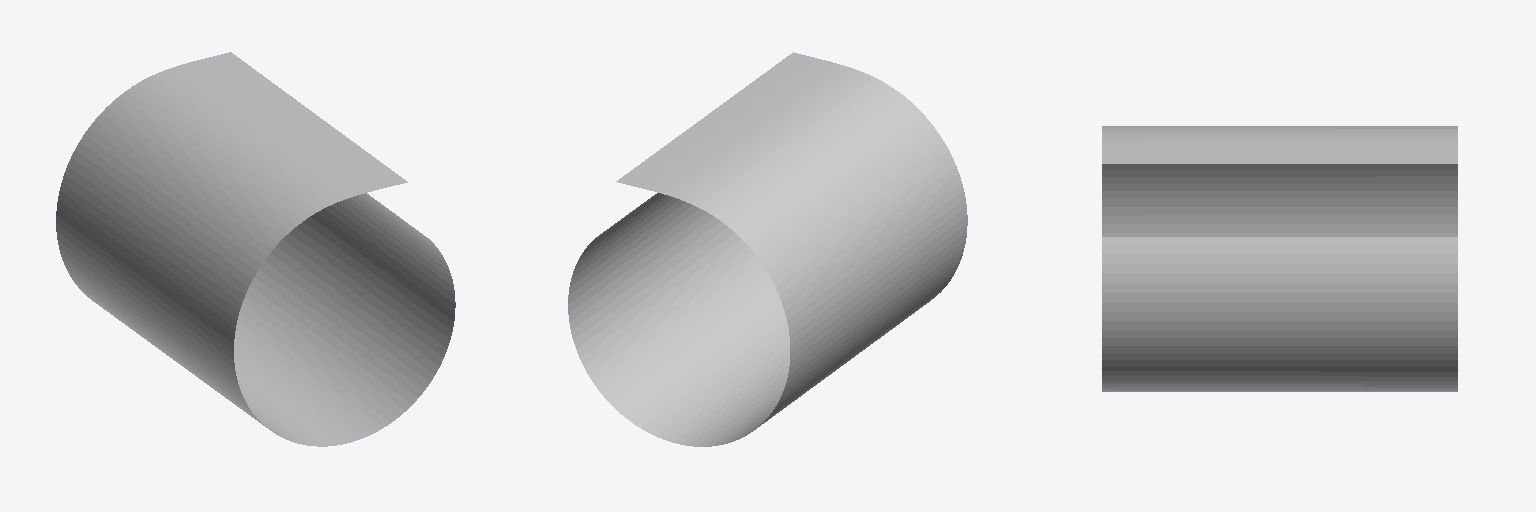
Rendered from CurvePaper_000007.obj.
3 views of the same model, side by side, from view 1: azimuth 30°, elevation 25°; view 2: azimuth 150°, elevation 25°; view 3: azimuth 270°, elevation 25° (orthographic).
Visible parts, largest first — view 1: Plane; view 2: Plane; view 3: Plane.
Part boxes in pixels (x1,y1,x2,y2): Plane: (56, 52, 455, 446); Plane: (568, 52, 967, 446); Plane: (1102, 126, 1457, 391).
Size of the model in its own units: 1.64 by 1.74 by 2.26.